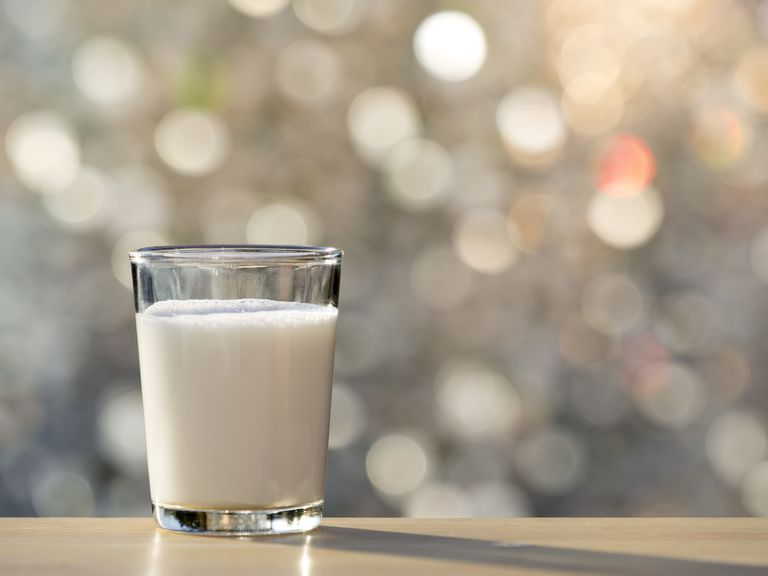glass of milk: (130, 245, 341, 528)
